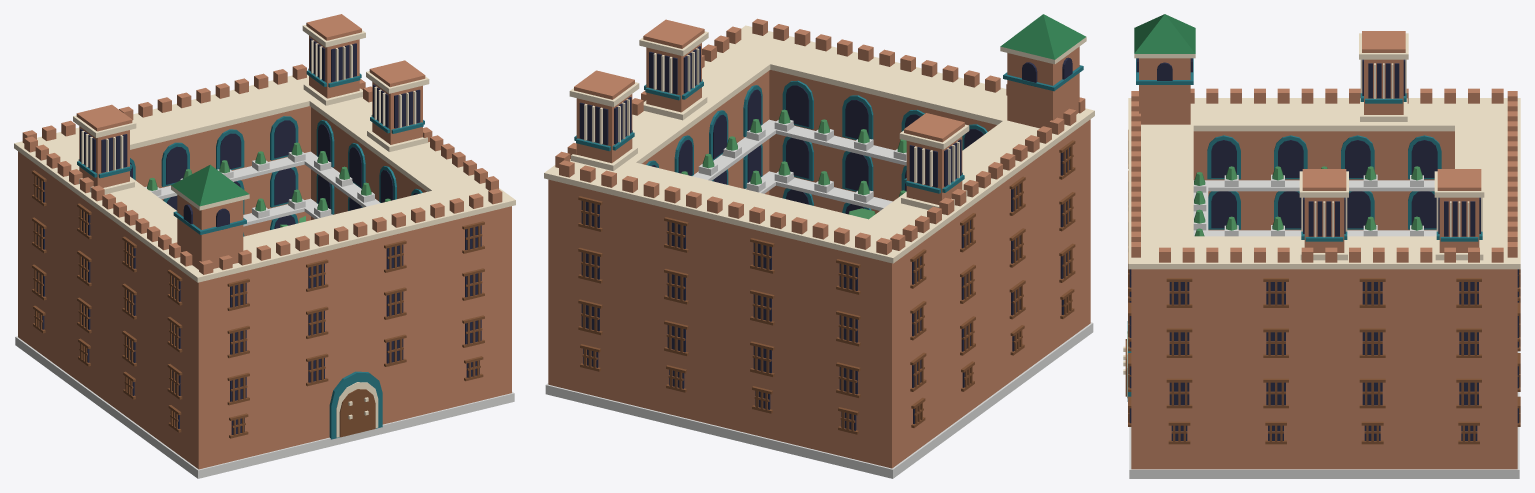
The model's file is house-2x2-4f-riad-a.glb.
3 views of the same model, side by side, from view 1: azimuth 30°, elevation 25°; view 2: azimuth 150°, elevation 25°; view 3: azimuth 270°, elevation 25° (orthographic). The views are drawn at different scales.
Parts seen in each view (by area): view 1: house-2x2-4f-riad-a; view 2: house-2x2-4f-riad-a; view 3: house-2x2-4f-riad-a.
Part boxes in pixels (x1,y1,x2,y2): house-2x2-4f-riad-a: (14, 14, 515, 478); house-2x2-4f-riad-a: (544, 14, 1094, 478); house-2x2-4f-riad-a: (1123, 14, 1520, 478).
Size of the model in its own units: 1.98 by 1.75 by 2.01.
1 material, 1 textured.
